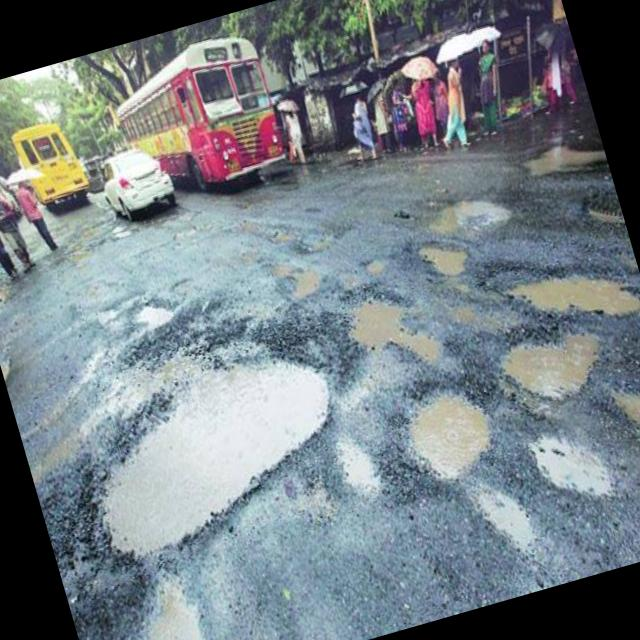Potholes: (76, 339, 358, 565), (392, 369, 550, 586), (480, 216, 640, 377), (334, 269, 463, 400), (484, 298, 614, 412), (517, 416, 630, 523), (110, 554, 246, 640), (516, 116, 616, 211), (428, 175, 523, 252), (402, 217, 478, 294), (253, 235, 330, 308), (600, 363, 640, 490), (114, 282, 186, 344), (577, 186, 629, 248), (354, 240, 401, 286)
